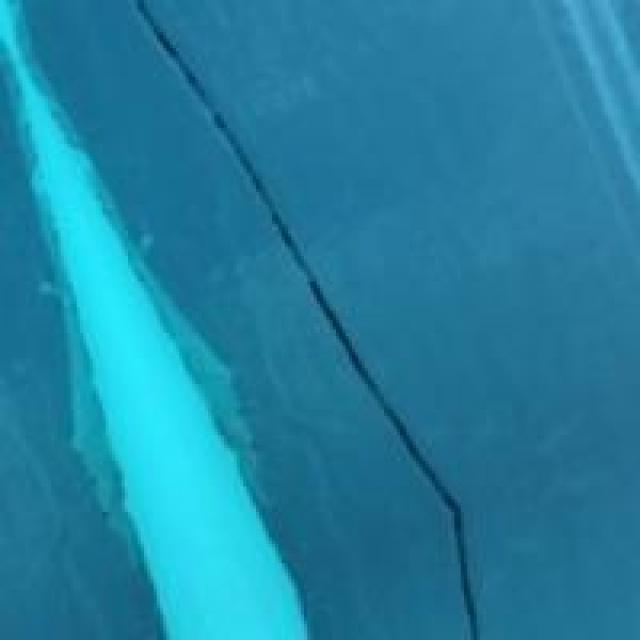crack: (118, 0, 544, 637)
